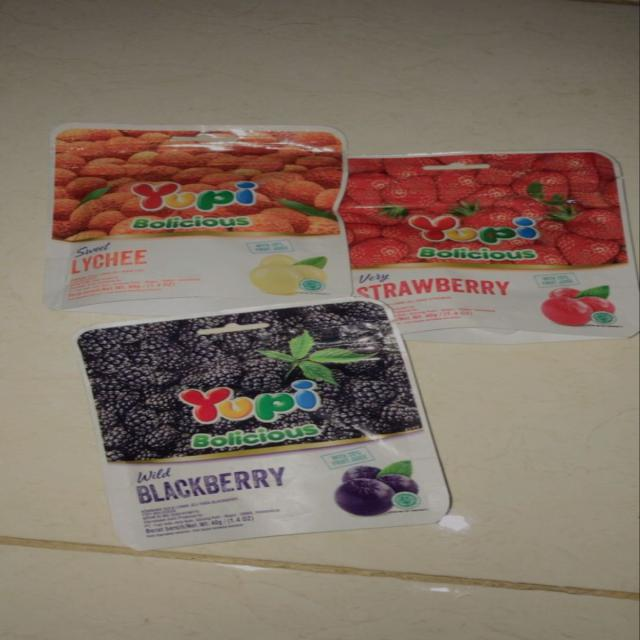KemasanPlastik: (74, 305, 454, 549), (48, 115, 357, 316), (334, 149, 640, 342)
